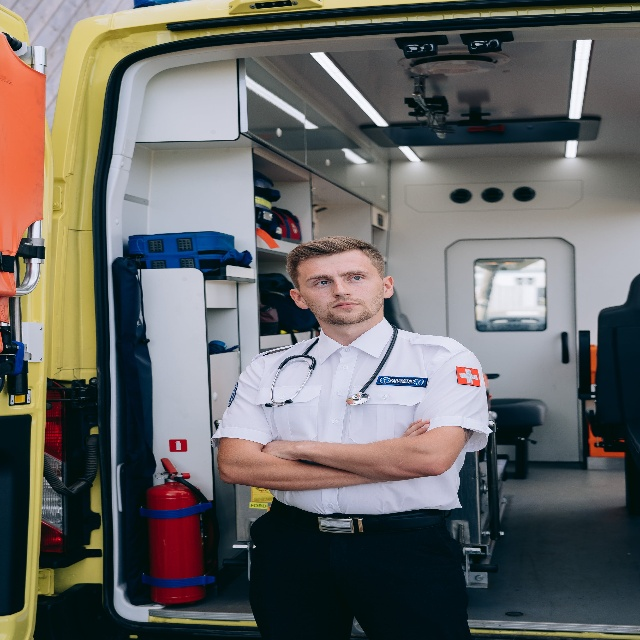Sin_guantes: (262, 437, 296, 463), (403, 415, 431, 432)
